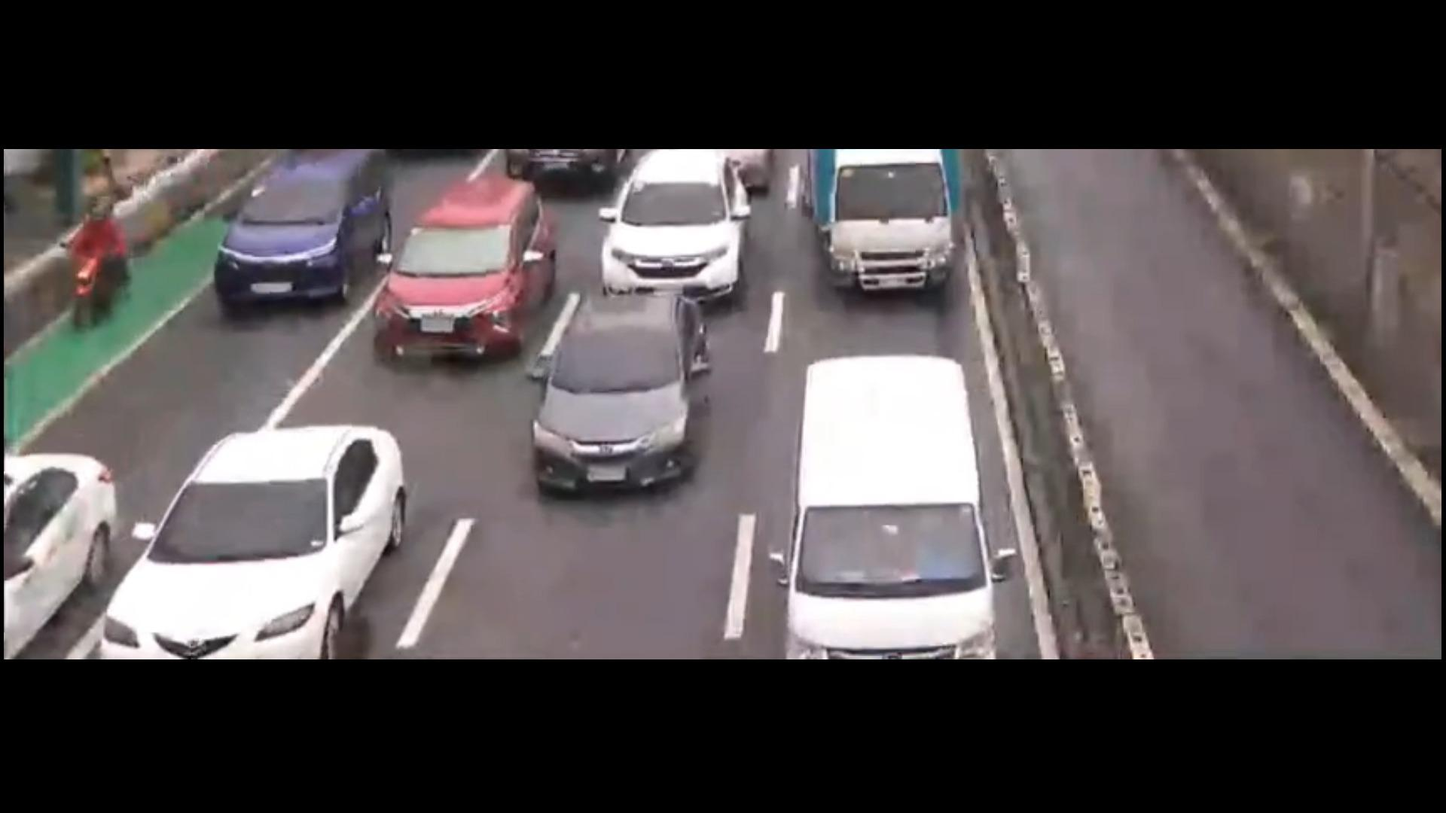Motorcycle: (38, 179, 170, 338)
SUV: (369, 174, 563, 378), (217, 147, 398, 326), (595, 149, 770, 305)
Sedan: (78, 407, 443, 669), (497, 275, 718, 508)
Truck: (801, 147, 966, 286)
Van: (757, 356, 1010, 665)
